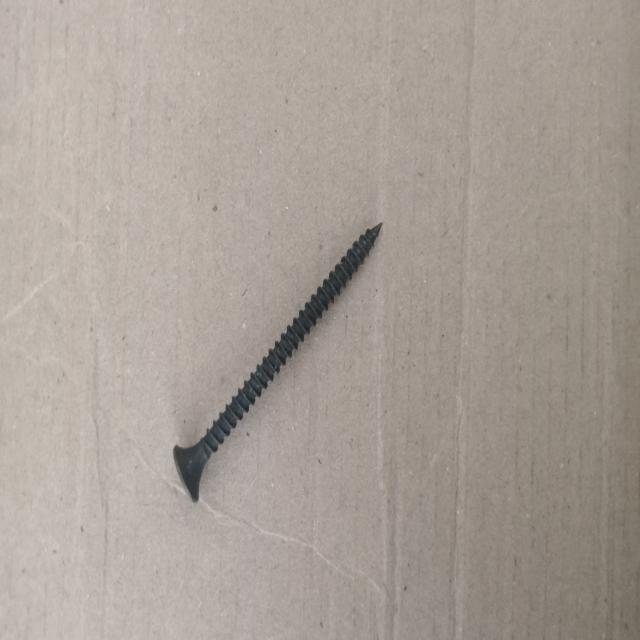screw: (171, 218, 384, 508)
